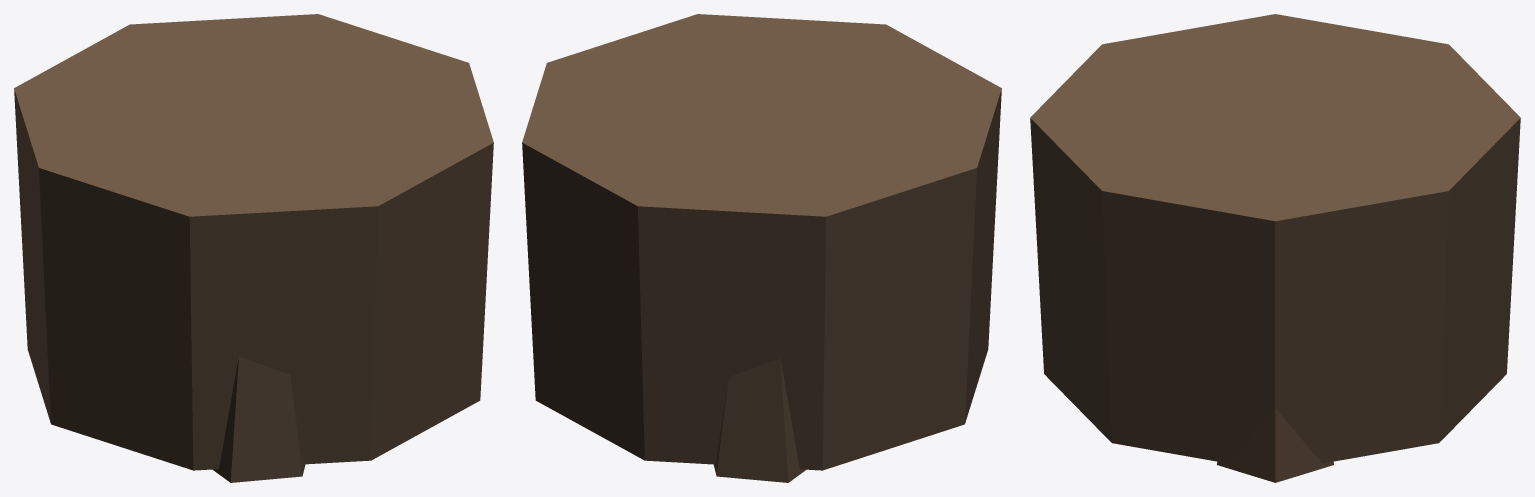
The model's file is stump.glb.
3 renders of one model, left to right at view 1: azimuth 30°, elevation 25°; view 2: azimuth 150°, elevation 25°; view 3: azimuth 270°, elevation 25°, orthographic.
Visible parts, largest first — view 1: stump; view 2: stump; view 3: stump.
Part boxes in pixels (x1,y1,x2,y2): stump: (14, 14, 493, 482); stump: (522, 14, 1001, 482); stump: (1030, 14, 1520, 482).
Size of what is drawn, in the model's own units: 0.957 by 0.56 by 0.954.
1 material, 1 textured.
